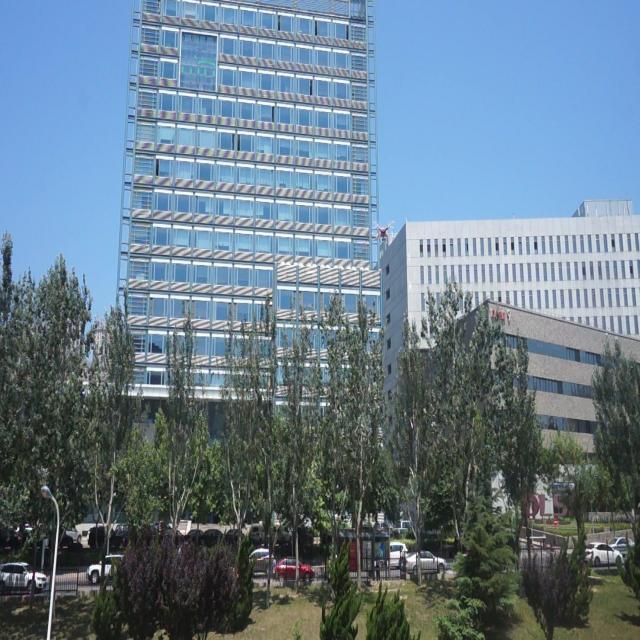UAV: (369, 221, 395, 248)
